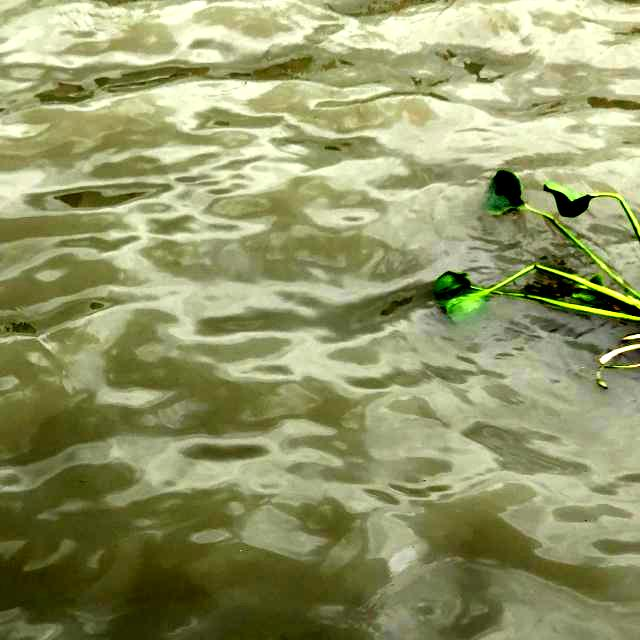water-hyacinth: (438, 162, 640, 374)
